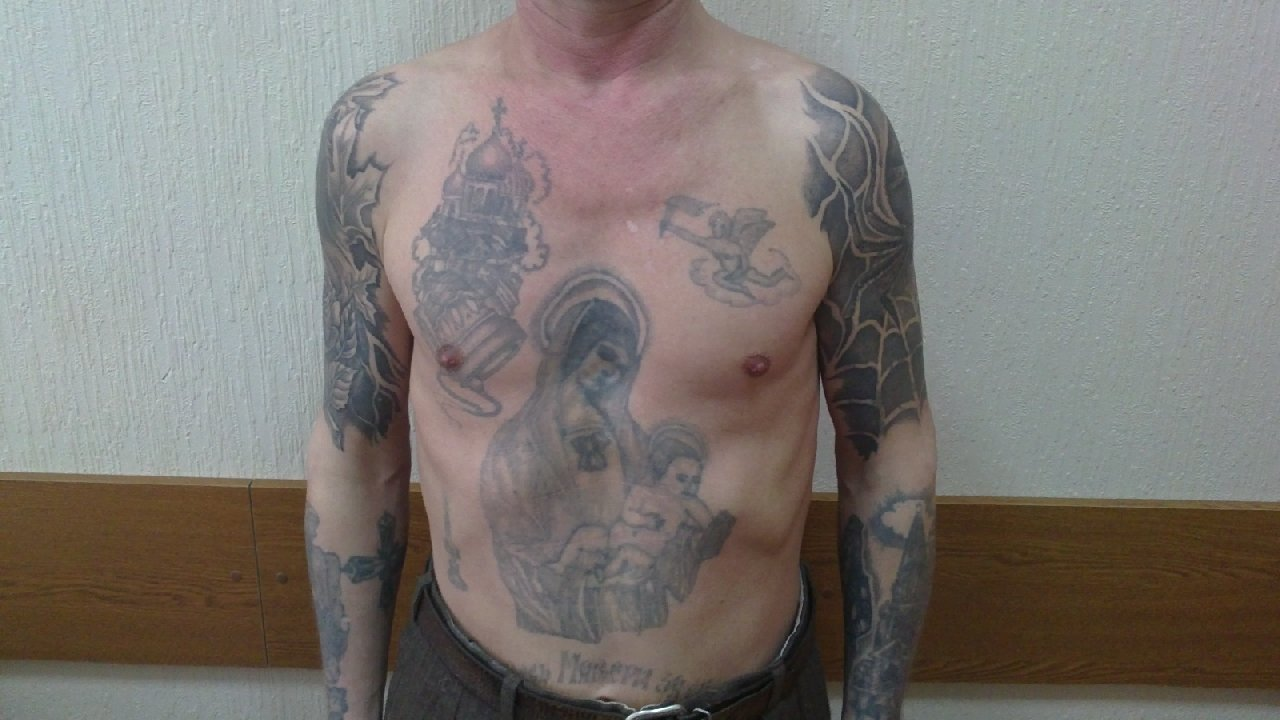tatu1_angel: (642, 185, 808, 308)
tatu2_bogorodica: (495, 265, 726, 611)
tatu3_bukva: (515, 643, 711, 706)
